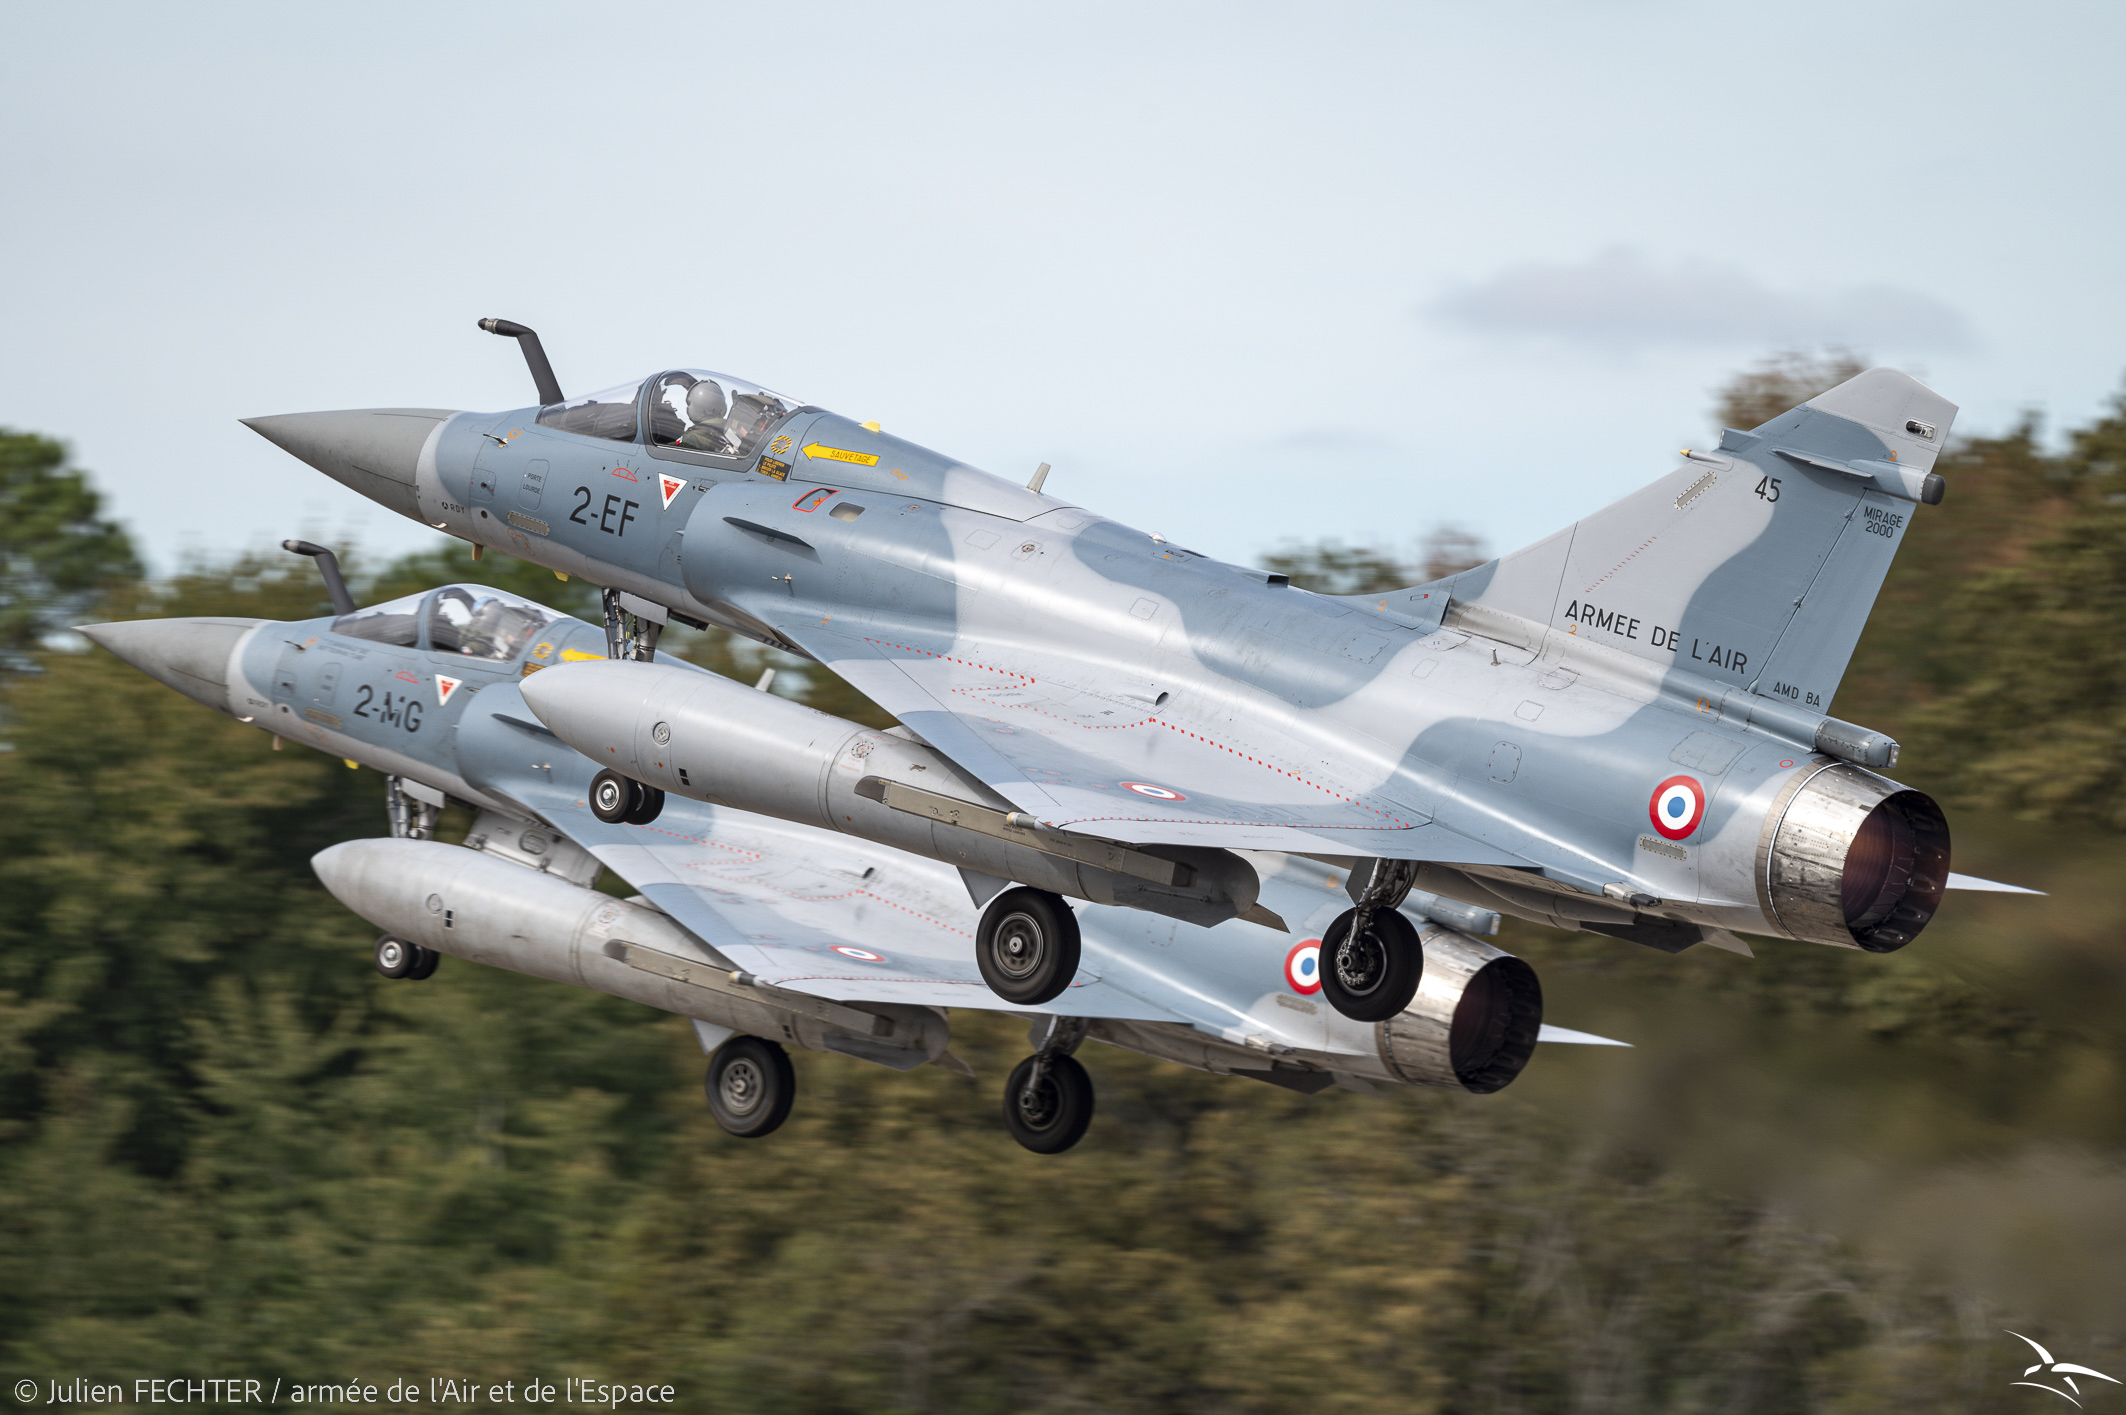Mirage2000: (235, 317, 2052, 1022), (69, 539, 1638, 1154)
